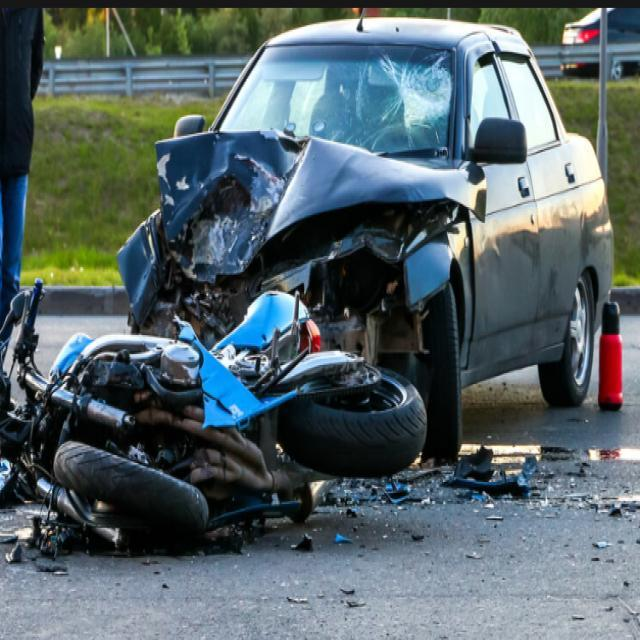accident: (1, 18, 616, 562)
